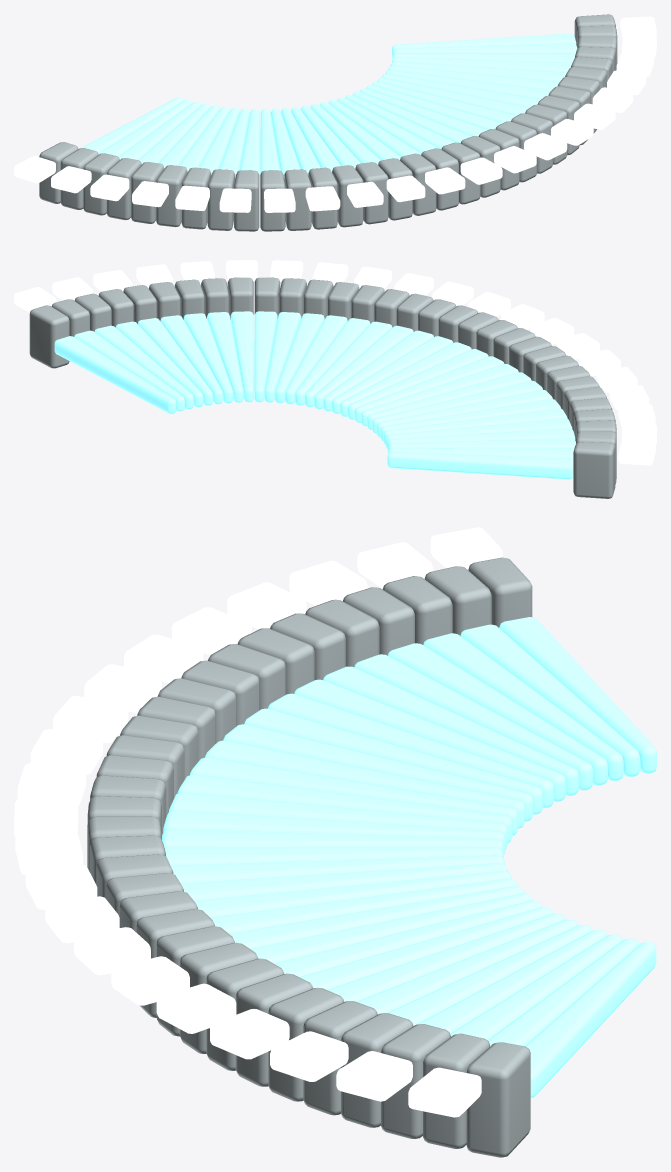
Rendered from shield.glb.
The picture shows the model from 3 angles, top to bottom: view 1: azimuth 30°, elevation 25°; view 2: azimuth 150°, elevation 25°; view 3: azimuth 270°, elevation 25°; orthographic projection. The views are drawn at different scales.
Visible parts, largest first — view 1: shield / shield / shield identity light, shield / frame / Brushed silver ceramic, shield / durability / shield emissive insert; view 2: shield / shield / shield identity light, shield / frame / Brushed silver ceramic, shield / durability / shield emissive insert; view 3: shield / shield / shield identity light, shield / frame / Brushed silver ceramic, shield / durability / shield emissive insert.
Boxes of the visible parts, x1,y1,x2,y2 form: shield / shield / shield identity light: (81, 33, 577, 181); shield / frame / Brushed silver ceramic: (39, 14, 617, 231); shield / durability / shield emissive insert: (14, 16, 656, 212); shield / shield / shield identity light: (54, 311, 575, 479); shield / frame / Brushed silver ceramic: (29, 277, 616, 498); shield / durability / shield emissive insert: (14, 260, 656, 465); shield / shield / shield identity light: (162, 617, 656, 1097); shield / frame / Brushed silver ceramic: (87, 557, 532, 1157); shield / durability / shield emissive insert: (14, 527, 502, 1117).
Bounding box in the file's own units: 55.34 × 4 × 26.26.
